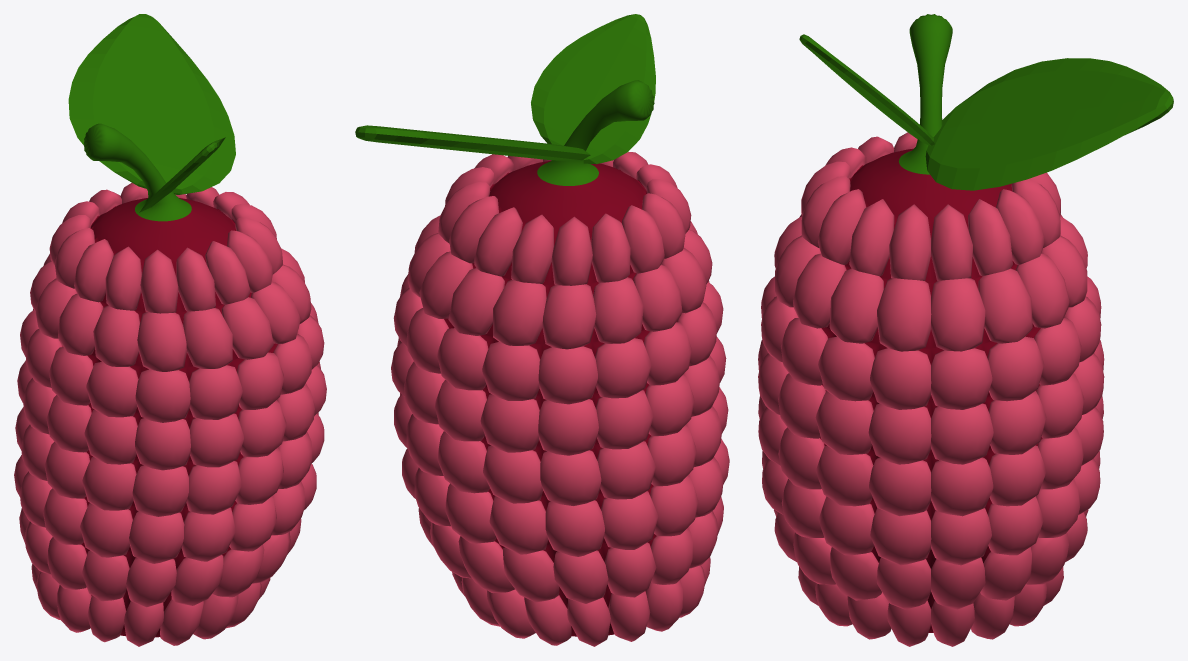
File: mullberry.glb
The picture shows the model from 3 angles, left to right: view 1: azimuth 30°, elevation 25°; view 2: azimuth 150°, elevation 25°; view 3: azimuth 270°, elevation 25°; orthographic projection. The views are drawn at different scales.
Visible parts, largest first — view 1: Berry3; view 2: Berry3; view 3: Berry3.
Part boxes in pixels (<box>): Berry3: <box>14,14,326,646</box>; Berry3: <box>355,14,729,646</box>; Berry3: <box>758,14,1173,646</box>.
Bounding box in the file's own units: 0.3051 × 0.5571 × 0.3614.
